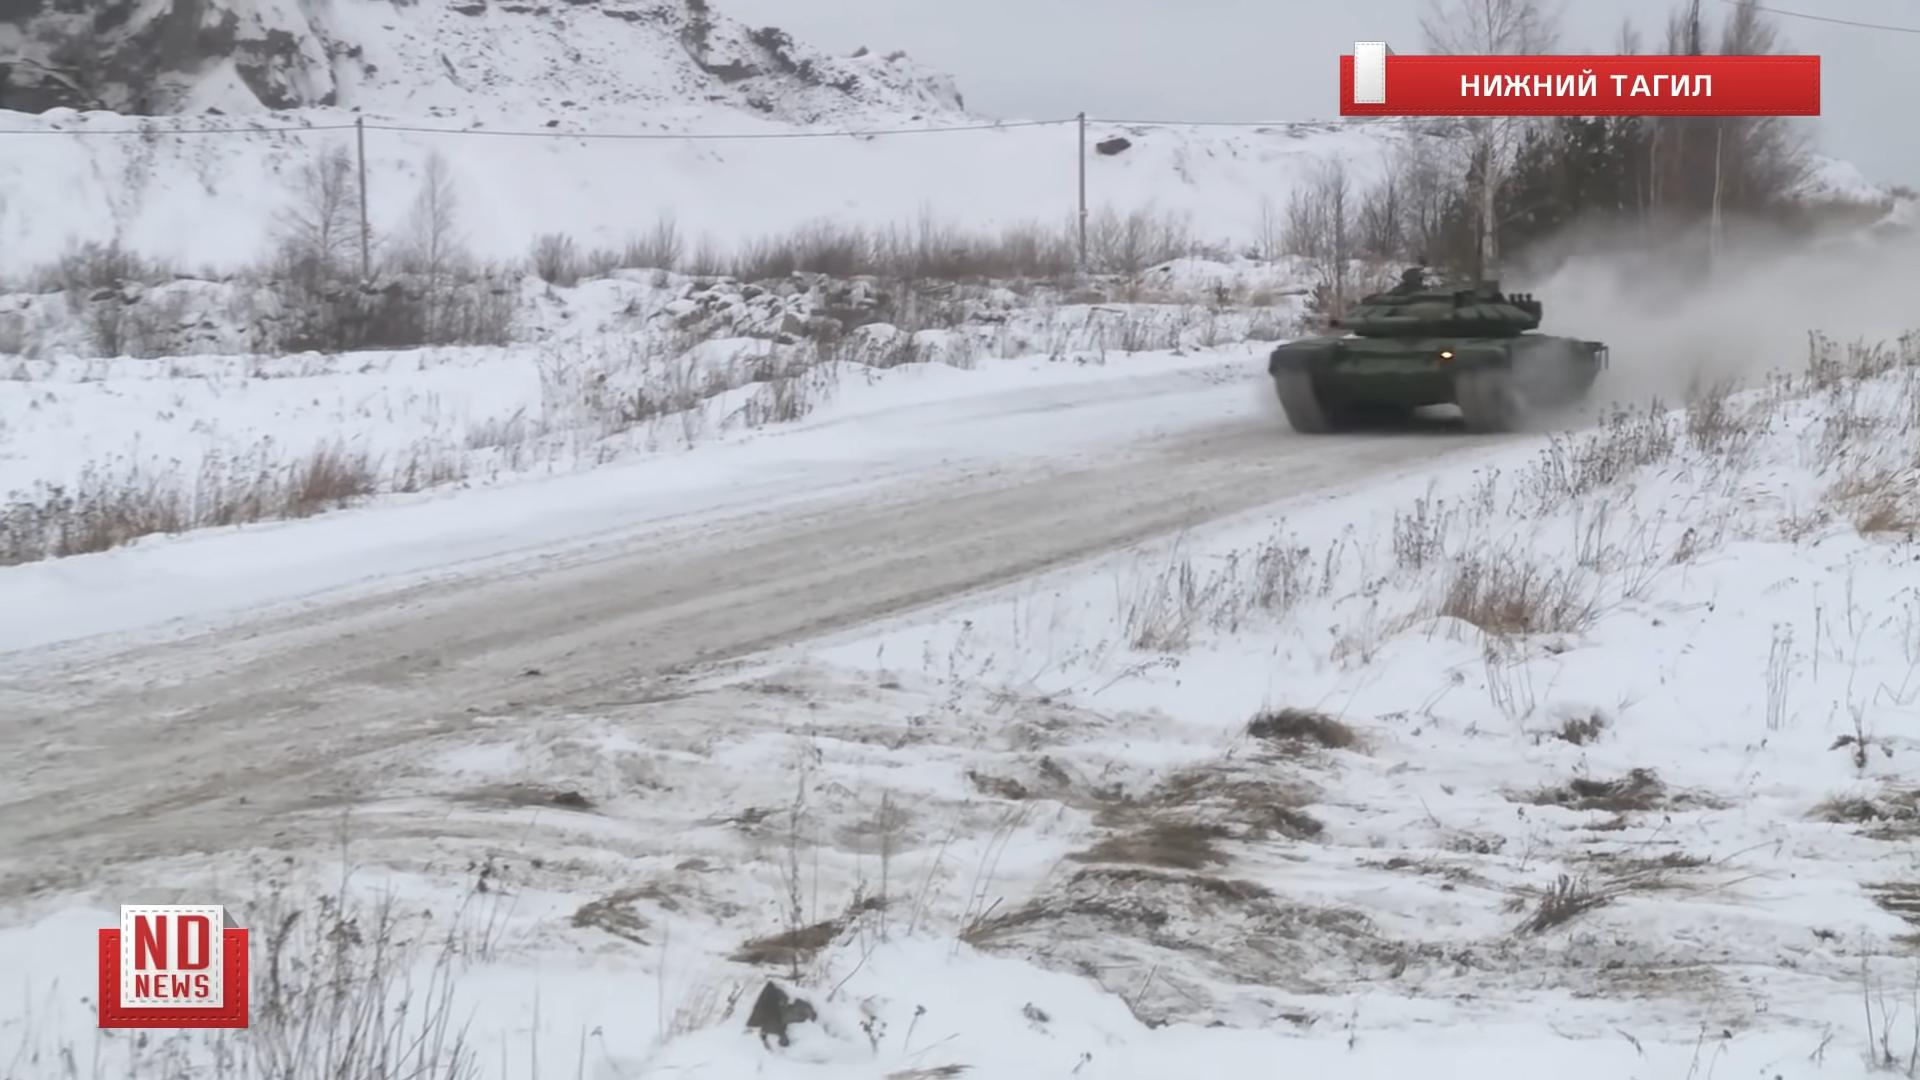tank: (1267, 269, 1611, 434)
